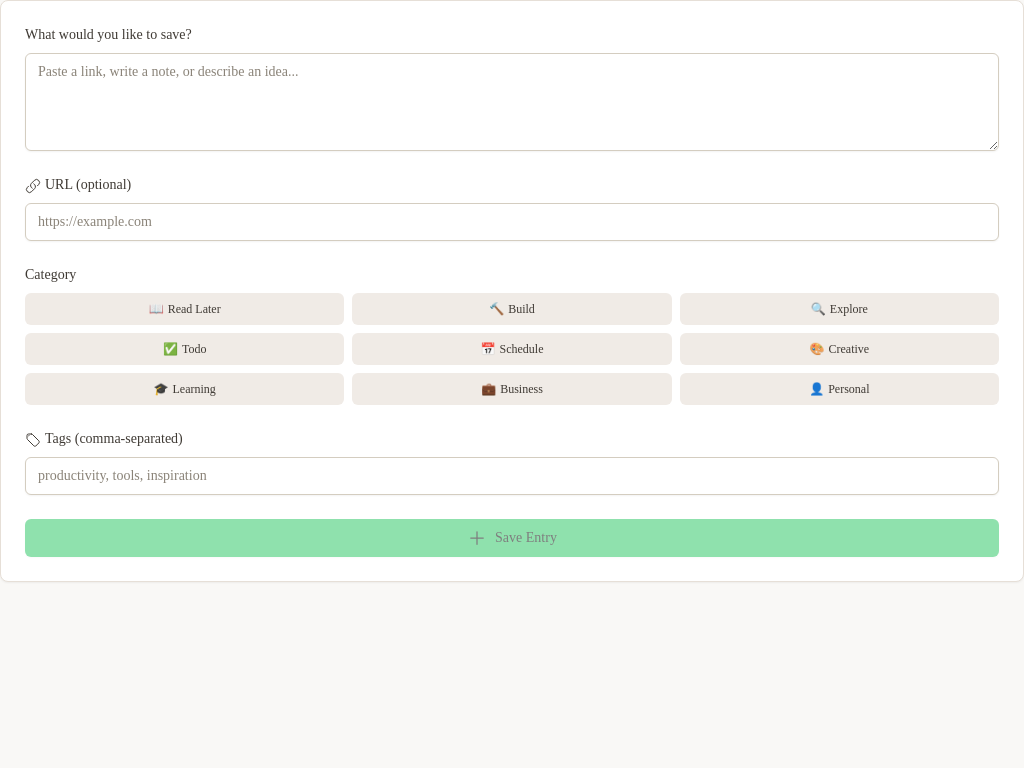
Test: EntryForm › enables submit button when content is entered
In the text box with placeholder "Paste a link, write a note, or describe an idea...": (512, 102) [25, 53, 999, 151], type "Some test content"
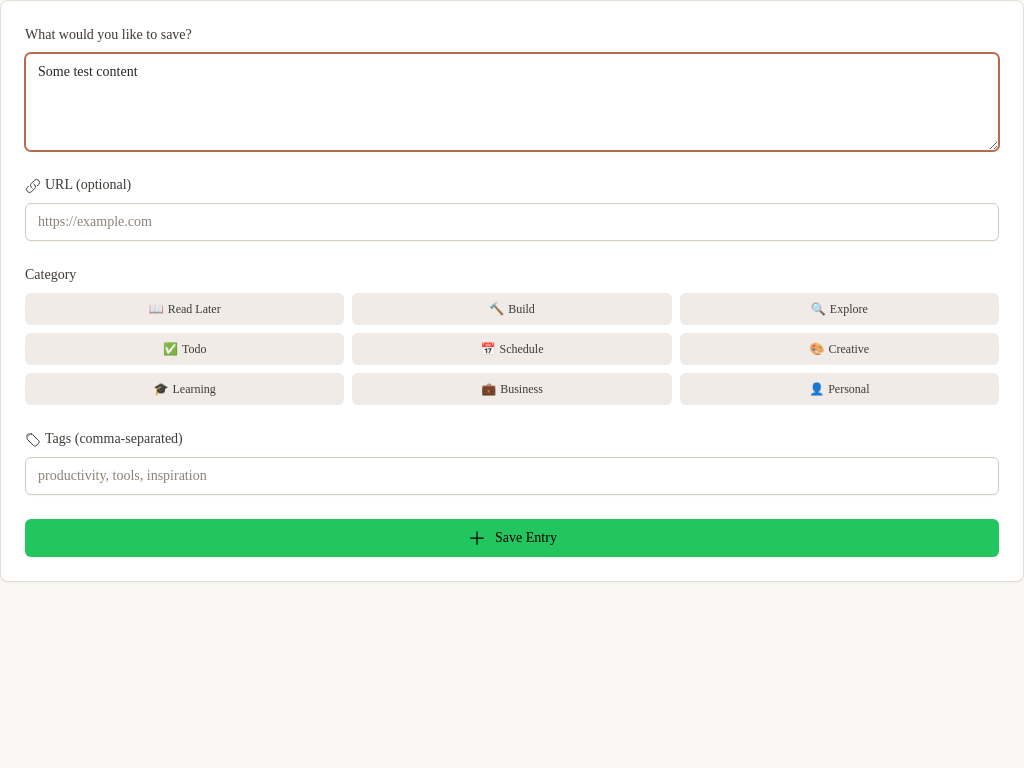
Expected: the button "Save Entry" is enabled, [25, 519, 999, 557]
